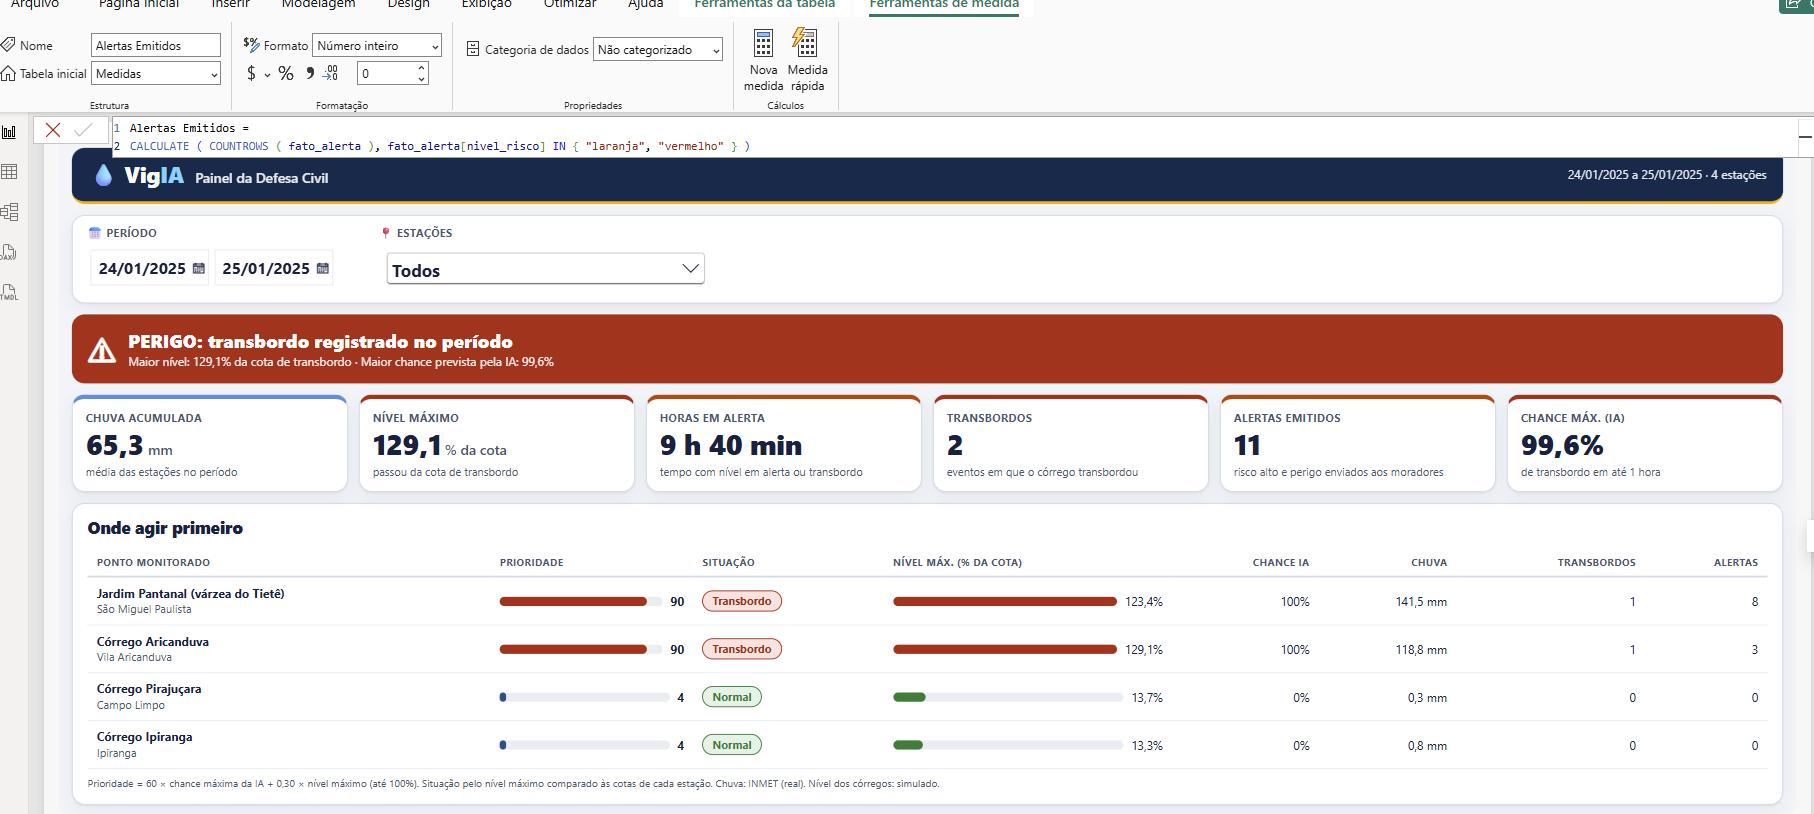

This screenshot's page, from the dashboard's own definition file:
{"tool":"powerbi","page":{"name":"Página 1","canvas":[1920,1080],"ordinal":0},"visuals":[{"type":"htmlContent443BE3AD55E043BF878BED274D3A6855","fields":{"content":["Medidas.VigIA Painel HTML"]},"box":[0,0,1920,1079.6],"z":0},{"type":"slicer","fields":{"Values":["dim_data.data"]},"box":[42.3,134.2,300.5,52.5],"z":1},{"type":"slicer","fields":{"Values":["dim_estacao.nome"]},"box":[367.7,137.1,356,52.5],"z":2}]}

Visuals, with their boxes on the page's 1920x1080 design canvas (x1, y1, x2, y2). These are canvas units, not pixel positions in the 1814x814 screenshot, which may show the page scaled, cropped or inside an application window:
htmlContent443BE3AD55E043BF878BED274D3A6855 - Medidas.VigIA Painel HTML: (x1=0, y1=0, x2=1920, y2=1080)
slicer - dim_data.data: (x1=42, y1=134, x2=343, y2=187)
slicer - dim_estacao.nome: (x1=368, y1=137, x2=724, y2=190)
